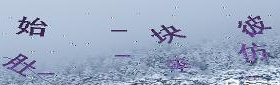chinese: (149, 23, 185, 48), (242, 39, 270, 67), (239, 14, 269, 40), (4, 51, 34, 76), (17, 16, 45, 39)
